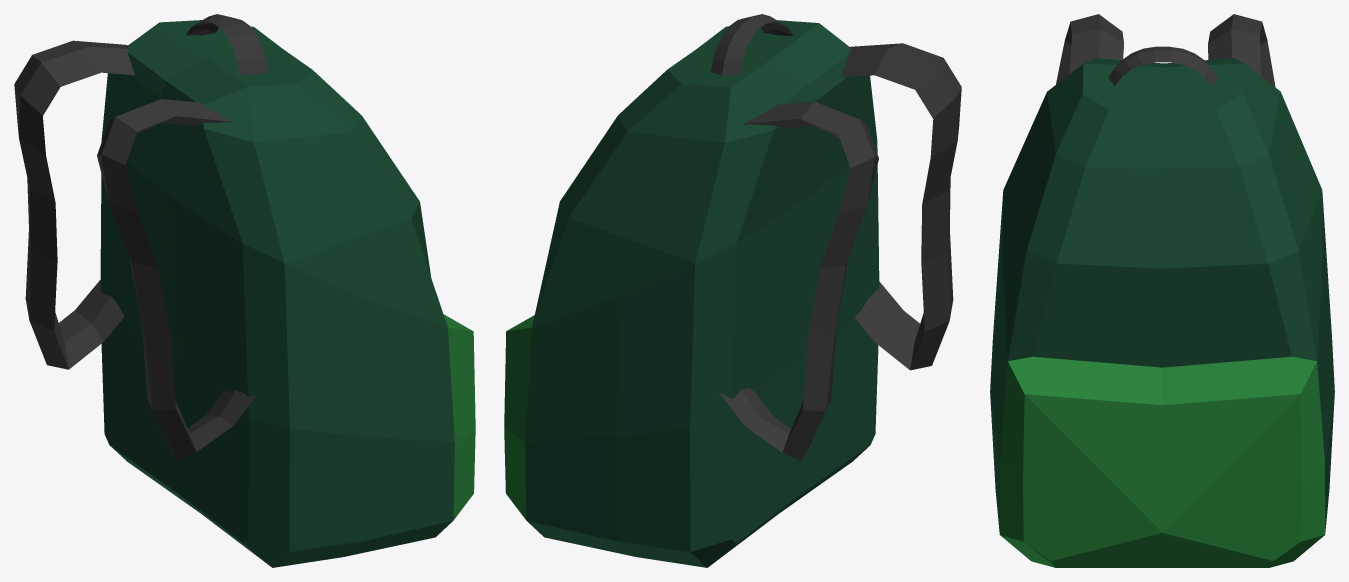
File: backpack.fbx
3 views of the same model, side by side, from view 1: azimuth 30°, elevation 25°; view 2: azimuth 150°, elevation 25°; view 3: azimuth 270°, elevation 25° (orthographic). The views are drawn at different scales.
Parts seen in each view (by area): view 1: Cube; view 2: Cube; view 3: Cube.
Part boxes in pixels (x1,y1,x2,y2): Cube: (14,14,475,567); Cube: (504,14,961,567); Cube: (990,14,1334,567).
Bounding box in the file's own units: 115 × 154 × 106.
